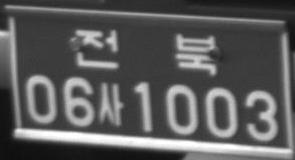0: (204, 86, 239, 139), (165, 83, 199, 136), (25, 73, 57, 124)
1: (130, 80, 158, 132)
3: (244, 89, 279, 142)
6: (62, 75, 95, 127)
사: (98, 81, 124, 128)
전북_D: (74, 27, 217, 76)
